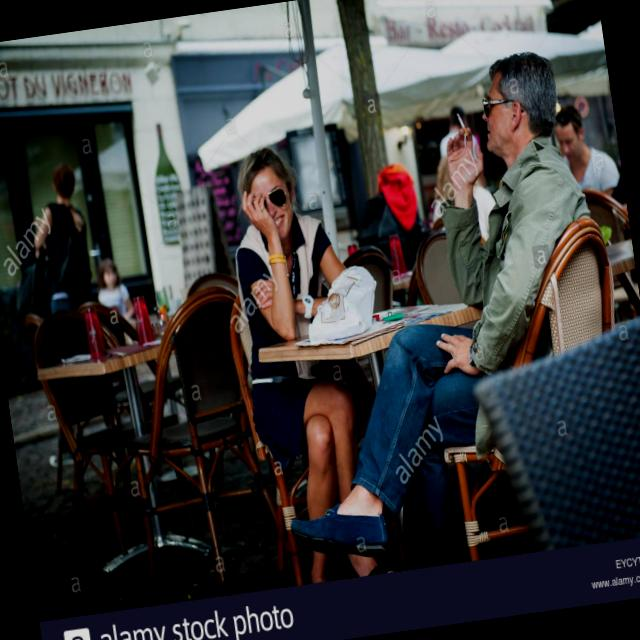smoke: (450, 105, 474, 142)
